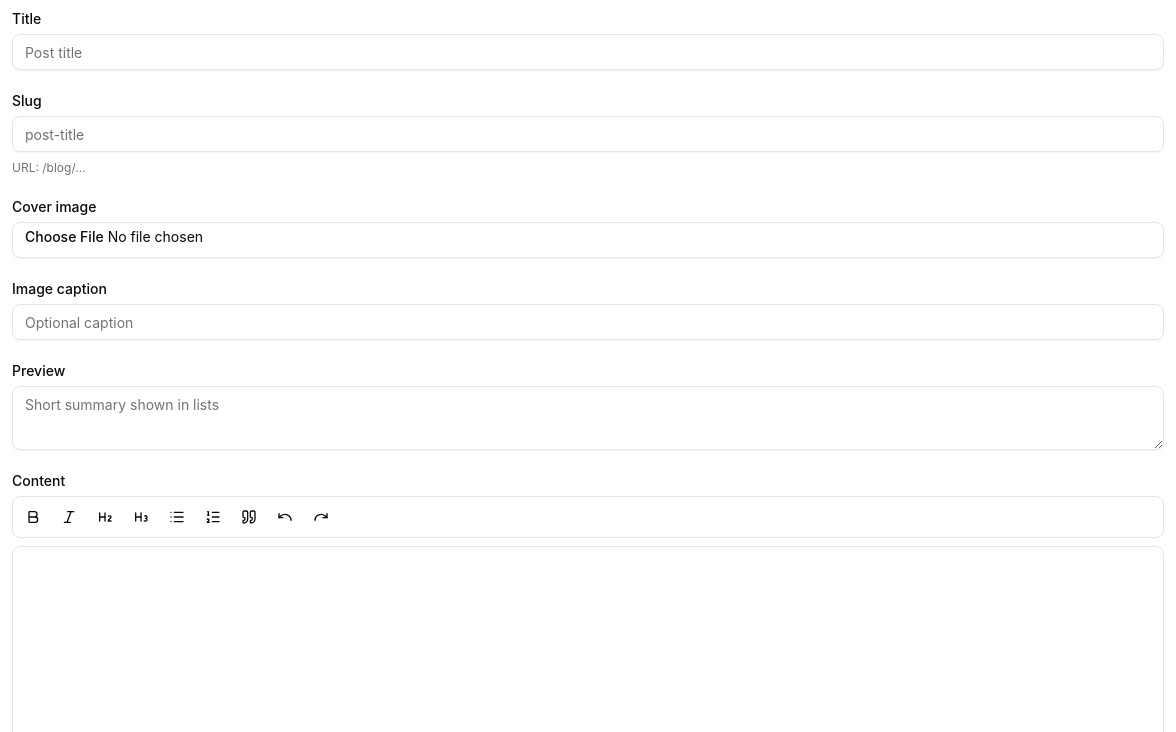
Test case: PostForm › derives the slug from the title
Type "My First Post" into the field labelled "Title" at {"x": 588, "y": 52}, box [12,34,1164,70]
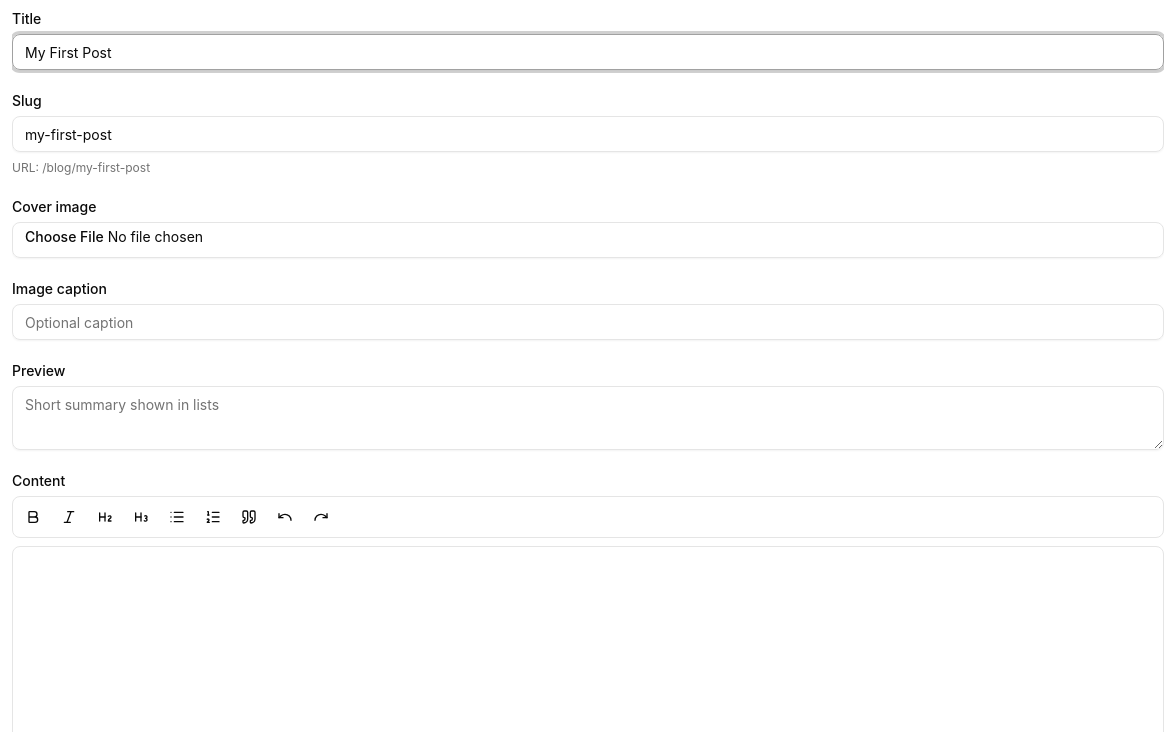
Now the field labelled "Slug" holds "my-first-post", box [12,116,1164,152]
